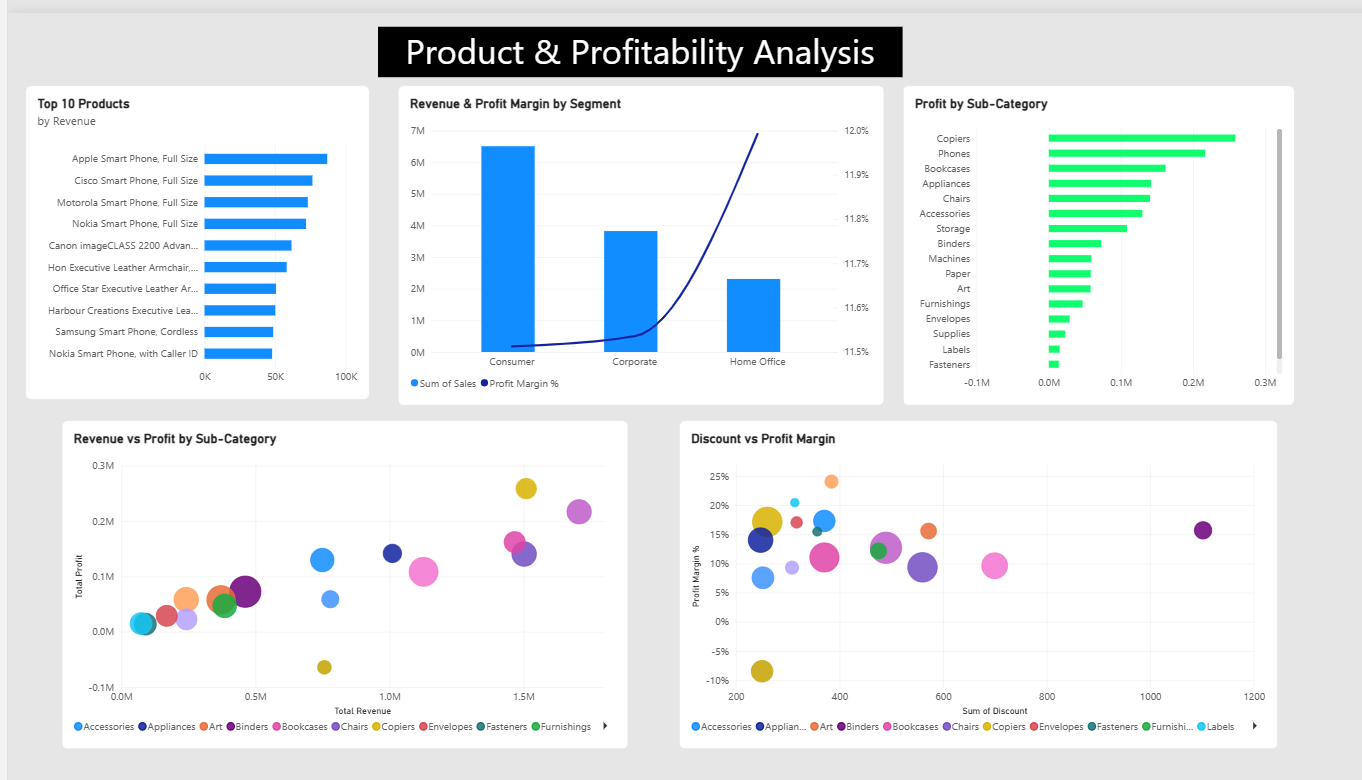

What the dashboard file says about the page in this screenshot:
{"tool":"powerbi","page":{"name":"Page 2","canvas":[1920,1080],"ordinal":1},"visuals":[{"type":"barChart","title":"Top 10 Products","fields":{"Category":["Orders.Product Name"],"Y":["Orders.Total Revenue"]},"box":[25,101.7,480,438.3],"z":0},{"type":"lineClusteredColumnComboChart","title":"Revenue & Profit Margin by Segment","fields":{"Category":["Orders.Segment"],"Y":["Sum(Orders.Sales)"],"Y2":["Orders.Profit Margin %"]},"box":[543.3,101.7,678.3,446.7],"z":2},{"type":"clusteredBarChart","title":"Profit by Sub-Category","fields":{"Category":["Orders.Sub-Category"],"Y":["Orders.Total Profit"]},"box":[1248.3,101.7,546.7,446.7],"z":3},{"type":"scatterChart","title":"Revenue vs Profit by Sub-Category","fields":{"Series":["Orders.Sub-Category"],"Size":["Orders.Total Orders"],"X":["Orders.Total Revenue"],"Y":["Orders.Total Profit"]},"box":[75,568.3,790,458.3],"z":4},{"type":"scatterChart","title":"Discount vs Profit Margin","fields":{"Series":["Orders.Sub-Category"],"Size":["Orders.Total Revenue"],"X":["Sum(Orders.Discount)"],"Y":["Orders.Profit Margin %"]},"box":[936.7,568.3,835,458.3],"z":5},{"type":"textbox","box":[516.7,20,731.7,70],"z":6}]}

Visuals, with their boxes in screenshot pixels (x1, y1, x2, y2), scaled from the page's 1920x1080 canvas onto the 1362x780 screenshot:
"Top 10 Products" barChart: left=18, top=73, right=358, bottom=390
"Revenue & Profit Margin by Segment" lineClusteredColumnComboChart: left=385, top=73, right=867, bottom=396
"Profit by Sub-Category" clusteredBarChart: left=886, top=73, right=1273, bottom=396
"Revenue vs Profit by Sub-Category" scatterChart: left=53, top=410, right=614, bottom=741
"Discount vs Profit Margin" scatterChart: left=664, top=410, right=1257, bottom=741
textbox: left=367, top=14, right=886, bottom=65
